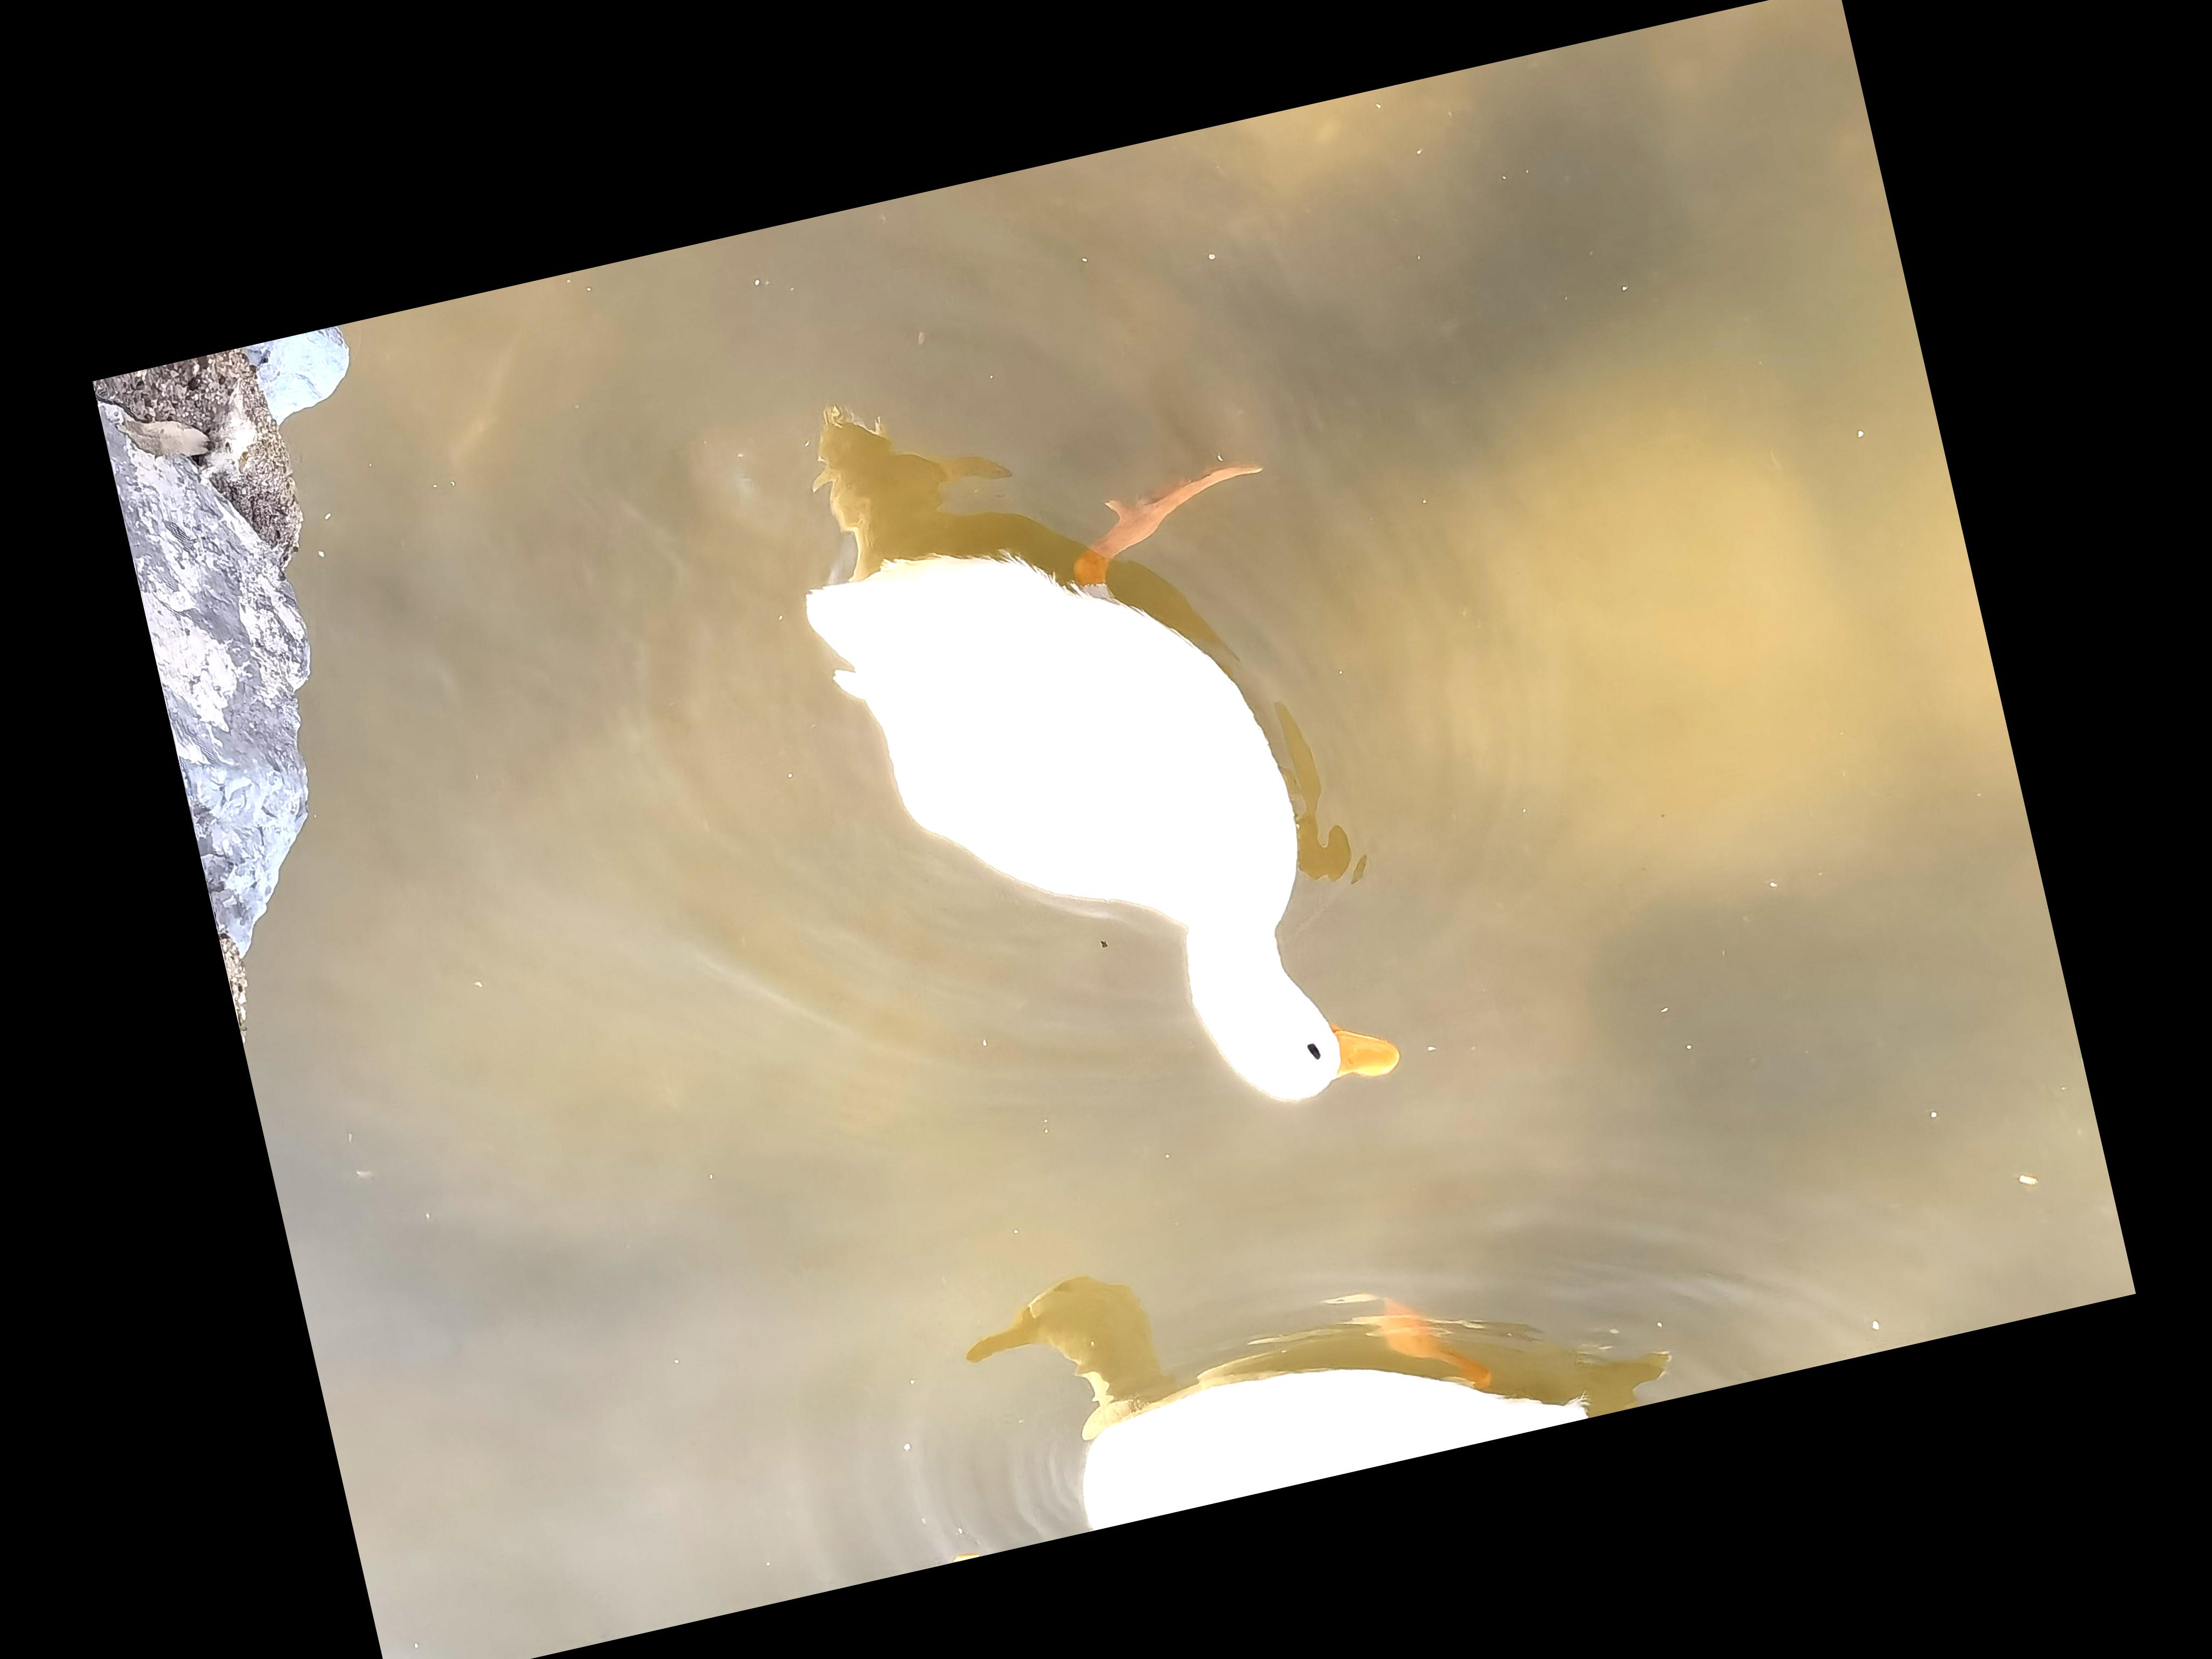duck: (752, 375, 1453, 1220), (951, 1150, 1648, 1549)
